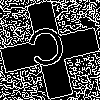C: (25, 25, 71, 78)
